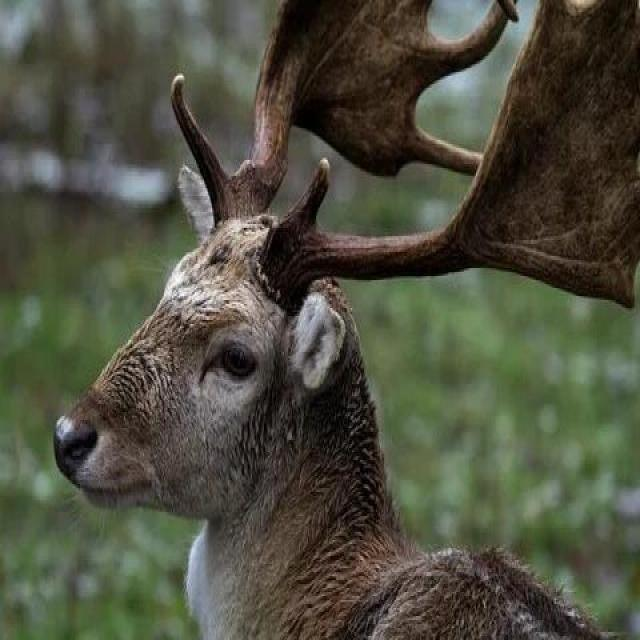deer: (90, 150, 415, 618)
